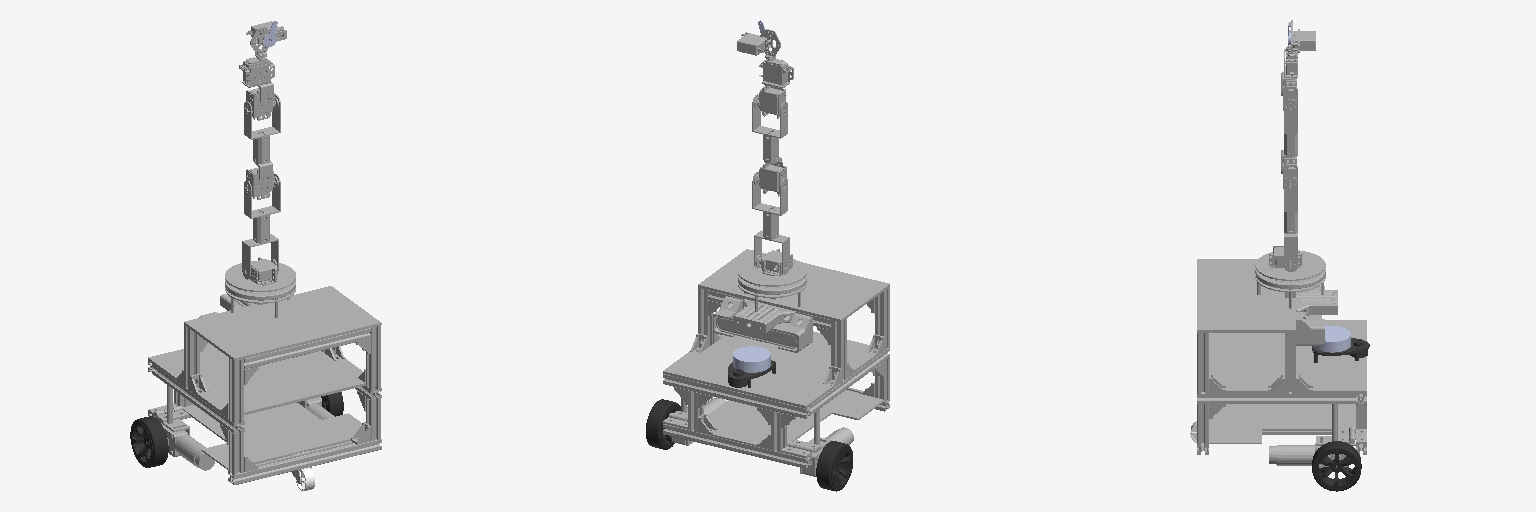
robot.urdf — tf_urdf2:
<?xml version="1.0" encoding="utf-8"?>
<!-- This URDF was automatically created by SolidWorks to URDF Exporter! Originally created by [author] ([email redacted]) 
     Commit Version: 1.6.0-4-g7f85cfe  Build Version: 1.6.7995.38578
     For more information, please see http://wiki.ros.org/sw_urdf_exporter -->
<robot
  name="tf_urdf2">
  <link
    name="base_link">
    <inertial>
      <origin
        xyz="-1.23025786656509E-12 5.18846734977975E-12 7.17791849942659E-12"
        rpy="0 0 0" />
      <mass
        value="2.12847235416398" />
      <inertia
        ixx="0.00568558429631298"
        ixy="1.5266709730259E-09"
        ixz="-5.06469082751148E-08"
        iyy="0.00660980095473277"
        iyz="-5.49851563305515E-06"
        izz="0.0118606210877818" />
    </inertial>
    <visual>
      <origin
        xyz="0 0 0"
        rpy="0 0 0" />
      <geometry>
        <mesh
          filename="package://tf_urdf2/meshes/base_link.STL" />
      </geometry>
      <material
        name="">
        <color
          rgba="0.752941176470588 0.752941176470588 0.752941176470588 1" />
      </material>
    </visual>
    <collision>
      <origin
        xyz="0 0 0"
        rpy="0 0 0" />
      <geometry>
        <mesh
          filename="package://tf_urdf2/meshes/base_link.STL" />
      </geometry>
    </collision>
  </link>
  <link
    name="base_laser_link">
    <inertial>
      <origin
        xyz="0.00287209394668812 -0.000171439245075351 -4.24955752011125E-15"
        rpy="0 0 0" />
      <mass
        value="0.368367374305662" />
      <inertia
        ixx="9.68293322754369E-05"
        ixy="1.45421516435213E-05"
        ixz="-1.17442257422505E-20"
        iyy="0.000356470305894242"
        iyz="-6.52735196393128E-21"
        izz="0.000276008992523265" />
    </inertial>
    <visual>
      <origin
        xyz="0 0 0"
        rpy="0 0 0" />
      <geometry>
        <mesh
          filename="package://tf_urdf2/meshes/base_laser_link.STL" />
      </geometry>
      <material
        name="">
        <color
          rgba="0.298039215686275 0.298039215686275 0.298039215686275 1" />
      </material>
    </visual>
    <collision>
      <origin
        xyz="0 0 0"
        rpy="0 0 0" />
      <geometry>
        <mesh
          filename="package://tf_urdf2/meshes/base_laser_link.STL" />
      </geometry>
    </collision>
  </link>
  <joint
    name="base_laser_joint"
    type="fixed">
    <origin
      xyz="-0.000131363742770744 0.0960941115400787 0.0268121154387293"
      rpy="1.5707963267949 0 1.5707963267949" />
    <parent
      link="base_link" />
    <child
      link="base_laser_link" />
    <axis
      xyz="0 0 0" />
  </joint>
  <link
    name="laser_link">
    <inertial>
      <origin
        xyz="6.27969898303604E-15 0.00994901655834555 5.59968738045313E-15"
        rpy="0 0 0" />
      <mass
        value="0.0660277715680958" />
      <inertia
        ixx="1.96156877893573E-05"
        ixy="2.30712697514792E-21"
        ixz="3.3881317890172E-21"
        iyy="3.48742138584865E-05"
        iyz="2.55774068988361E-21"
        izz="1.96156117763069E-05" />
    </inertial>
    <visual>
      <origin
        xyz="0 0 0"
        rpy="0 0 0" />
      <geometry>
        <mesh
          filename="package://tf_urdf2/meshes/laser_link.STL" />
      </geometry>
      <material
        name="">
        <color
          rgba="0.792156862745098 0.819607843137255 0.933333333333333 1" />
      </material>
    </visual>
    <collision>
      <origin
        xyz="0 0 0"
        rpy="0 0 0" />
      <geometry>
        <mesh
          filename="package://tf_urdf2/meshes/laser_link.STL" />
      </geometry>
    </collision>
  </link>
  <joint
    name="laser_joint"
    type="continuous">
    <origin
      xyz="-0.01425 0.00499999999999998 0"
      rpy="3.14159265358979 0.841141811649931 3.14159265358979" />
    <parent
      link="base_laser_link" />
    <child
      link="laser_link" />
    <axis
      xyz="0 1 0" />
  </joint>
  <link
    name="camera_link">
    <inertial>
      <origin
        xyz="-3.59641705078968E-06 -8.99346677352003E-05 -0.0199626938778014"
        rpy="0 0 0" />
      <mass
        value="0.182998721477312" />
      <inertia
        ixx="3.5992273823816E-05"
        ixy="2.02108915234498E-09"
        ixz="4.50592861470096E-08"
        iyy="0.000405203076956735"
        iyz="4.47034923597135E-08"
        izz="0.000396282425929481" />
    </inertial>
    <visual>
      <origin
        xyz="0 0 0"
        rpy="0 0 0" />
      <geometry>
        <mesh
          filename="package://tf_urdf2/meshes/camera_link.STL" />
      </geometry>
      <material
        name="">
        <color
          rgba="0.752941176470588 0.752941176470588 0.752941176470588 1" />
      </material>
    </visual>
    <collision>
      <origin
        xyz="0 0 0"
        rpy="0 0 0" />
      <geometry>
        <mesh
          filename="package://tf_urdf2/meshes/camera_link.STL" />
      </geometry>
    </collision>
  </link>
  <joint
    name="camera_joint"
    type="fixed">
    <origin
      xyz="-0.000131363742774914 0.0638441115400772 0.0858121154387287"
      rpy="1.5707963267949 0 3.14159265358979" />
    <parent
      link="base_link" />
    <child
      link="camera_link" />
    <axis
      xyz="0 0 0" />
  </joint>
  <link
    name="left_wheel_link">
    <inertial>
      <origin
        xyz="-0.0150496497452622 -1.96331145785322E-12 2.77555756156289E-16"
        rpy="0 0 0" />
      <mass
        value="0.0895053073671552" />
      <inertia
        ixx="0.000104006422478187"
        ixy="7.89419753183192E-16"
        ixz="4.3658717399168E-20"
        iyy="5.80082032825445E-05"
        iyz="9.78351853198924E-16"
        izz="5.80082032677947E-05" />
    </inertial>
    <visual>
      <origin
        xyz="0 0 0"
        rpy="0 0 0" />
      <geometry>
        <mesh
          filename="package://tf_urdf2/meshes/left_wheel_link.STL" />
      </geometry>
      <material
        name="">
        <color
          rgba="0.250980392156863 0.250980392156863 0.250980392156863 1" />
      </material>
    </visual>
    <collision>
      <origin
        xyz="0 0 0"
        rpy="0 0 0" />
      <geometry>
        <mesh
          filename="package://tf_urdf2/meshes/left_wheel_link.STL" />
      </geometry>
    </collision>
  </link>
  <joint
    name="left_wheel_joint"
    type="continuous">
    <origin
      xyz="-0.154631363742771 0.0895941115400787 -0.11818788456127"
      rpy="0.848490512040727 0 0" />
    <parent
      link="base_link" />
    <child
      link="left_wheel_link" />
    <axis
      xyz="1 0 0" />
  </joint>
  <link
    name="right_wheel_link">
    <inertial>
      <origin
        xyz="-0.0150496497452583 -1.9614865287565E-12 -1.24206200879939E-15"
        rpy="0 0 0" />
      <mass
        value="0.0895053073671553" />
      <inertia
        ixx="0.000104006422478187"
        ixy="7.89524586002435E-16"
        ixz="-4.26639638785426E-20"
        iyy="5.80082032825446E-05"
        iyz="9.78333218474084E-16"
        izz="5.80082032677947E-05" />
    </inertial>
    <visual>
      <origin
        xyz="0 0 0"
        rpy="0 0 0" />
      <geometry>
        <mesh
          filename="package://tf_urdf2/meshes/right_wheel_link.STL" />
      </geometry>
      <material
        name="">
        <color
          rgba="0.250980392156863 0.250980392156863 0.250980392156863 1" />
      </material>
    </visual>
    <collision>
      <origin
        xyz="0 0 0"
        rpy="0 0 0" />
      <geometry>
        <mesh
          filename="package://tf_urdf2/meshes/right_wheel_link.STL" />
      </geometry>
    </collision>
  </link>
  <joint
    name="right_wheel_joint"
    type="continuous">
    <origin
      xyz="0.154368636257235 0.0895941115400792 -0.118187884561269"
      rpy="0.537102295661347 0 3.14159265358979" />
    <parent
      link="base_link" />
    <child
      link="right_wheel_link" />
    <axis
      xyz="1 0 0" />
  </joint>
  <link
    name="arm_1_link">
    <inertial>
      <origin
        xyz="-0.00304007438065856 0.0196164335046979 -0.00291517433010096"
        rpy="0 0 0" />
      <mass
        value="0.102309676287535" />
      <inertia
        ixx="5.8527733760858E-05"
        ixy="-1.83034149313203E-07"
        ixz="-5.8553418327819E-07"
        iyy="0.000109918724976135"
        iyz="3.63049047085068E-07"
        izz="5.95682017970688E-05" />
    </inertial>
    <visual>
      <origin
        xyz="0 0 0"
        rpy="0 0 0" />
      <geometry>
        <mesh
          filename="package://tf_urdf2/meshes/arm_1_link.STL" />
      </geometry>
      <material
        name="">
        <color
          rgba="0.752941176470588 0.752941176470588 0.752941176470588 1" />
      </material>
    </visual>
    <collision>
      <origin
        xyz="0 0 0"
        rpy="0 0 0" />
      <geometry>
        <mesh
          filename="package://tf_urdf2/meshes/arm_1_link.STL" />
      </geometry>
    </collision>
  </link>
  <joint
    name="arm_1_joint"
    type="revolute">
    <origin
      xyz="-0.000131363742783178 0.0108441115400749 0.163312115438725"
      rpy="1.57079632679492 0 1.96777674022887" />
    <parent
      link="base_link" />
    <child
      link="arm_1_link" />
    <axis
      xyz="0 1 0" />
    <limit
      lower="-1.57"
      upper="1.57"
      effort="10"
      velocity="100" />
  </joint>
  <link
    name="arm_2_link">
    <inertial>
      <origin
        xyz="-0.00136241892712764 0.076000000000004 0.00324974749159981"
        rpy="0 0 0" />
      <mass
        value="0.0731866074343533" />
      <inertia
        ixx="4.80073815600739E-05"
        ixy="-1.00851028100145E-08"
        ixz="8.91994561566115E-06"
        iyy="3.20760640864426E-05"
        iyz="2.40557713637902E-08"
        izz="3.04704178358831E-05" />
    </inertial>
    <visual>
      <origin
        xyz="0 0 0"
        rpy="0 0 0" />
      <geometry>
        <mesh
          filename="package://tf_urdf2/meshes/arm_2_link.STL" />
      </geometry>
      <material
        name="">
        <color
          rgba="0.752941176470588 0.752941176470588 0.752941176470588 1" />
      </material>
    </visual>
    <collision>
      <origin
        xyz="0 0 0"
        rpy="0 0 0" />
      <geometry>
        <mesh
          filename="package://tf_urdf2/meshes/arm_2_link.STL" />
      </geometry>
    </collision>
  </link>
  <joint
    name="arm_2_joint"
    type="revolute">
    <origin
      xyz="0.000571784258836153 0.0325000000000035 0.000239713915631105"
      rpy="0 0 0" />
    <parent
      link="arm_1_link" />
    <child
      link="arm_2_link" />
    <axis
      xyz="0.38663534779315 0 -0.922232675541736" />
    <limit
      lower="-1.57"
      upper="1.57"
      effort="10"
      velocity="100" />
  </joint>
  <link
    name="arm_3_link">
    <inertial>
      <origin
        xyz="-0.0025815323539943 0.0524015938949764 0.000939181123807713"
        rpy="0 0 0" />
      <mass
        value="0.103604281318284" />
      <inertia
        ixx="3.85881019869448E-05"
        ixy="-4.80398959246596E-07"
        ixz="5.05895937622422E-06"
        iyy="2.28862112756691E-05"
        iyz="-1.44453368102442E-07"
        izz="2.97794535051696E-05" />
    </inertial>
    <visual>
      <origin
        xyz="0 0 0"
        rpy="0 0 0" />
      <geometry>
        <mesh
          filename="package://tf_urdf2/meshes/arm_3_link.STL" />
      </geometry>
      <material
        name="">
        <color
          rgba="0.752941176470588 0.752941176470588 0.752941176470588 1" />
      </material>
    </visual>
    <collision>
      <origin
        xyz="0 0 0"
        rpy="0 0 0" />
      <geometry>
        <mesh
          filename="package://tf_urdf2/meshes/arm_3_link.STL" />
      </geometry>
    </collision>
  </link>
  <joint
    name="arm_3_joint"
    type="revolute">
    <origin
      xyz="0 0.151999999999983 0"
      rpy="0 0 0" />
    <parent
      link="arm_2_link" />
    <child
      link="arm_3_link" />
    <axis
      xyz="0.38663534779314 0 -0.922232675541741" />
    <limit
      lower="-1.57"
      upper="1.57"
      effort="10"
      velocity="100" />
  </joint>
  <link
    name="arm_4_link">
    <inertial>
      <origin
        xyz="-0.00101187421643466 0.0375011786552923 -0.00366708118075301"
        rpy="0 0 0" />
      <mass
        value="0.0995665365644681" />
      <inertia
        ixx="2.11129356918354E-05"
        ixy="-8.60509446438974E-08"
        ixz="2.61664430380233E-06"
        iyy="1.51148952678042E-05"
        iyz="-3.60758613100859E-08"
        izz="1.71059723390192E-05" />
    </inertial>
    <visual>
      <origin
        xyz="0 0 0"
        rpy="0 0 0" />
      <geometry>
        <mesh
          filename="package://tf_urdf2/meshes/arm_4_link.STL" />
      </geometry>
      <material
        name="">
        <color
          rgba="0.752941176470588 0.752941176470588 0.752941176470588 1" />
      </material>
    </visual>
    <collision>
      <origin
        xyz="0 0 0"
        rpy="0 0 0" />
      <geometry>
        <mesh
          filename="package://tf_urdf2/meshes/arm_4_link.STL" />
      </geometry>
    </collision>
  </link>
  <joint
    name="arm_4_joint"
    type="revolute">
    <origin
      xyz="0 0.146400000000001 0"
      rpy="0 0 0" />
    <parent
      link="arm_3_link" />
    <child
      link="arm_4_link" />
    <axis
      xyz="0.386635347793163 0 -0.922232675541731" />
    <limit
      lower="-1.57"
      upper="1.57"
      effort="10"
      velocity="100" />
  </joint>
  <link
    name="arm_5_link">
    <inertial>
      <origin
        xyz="-0.00868940066621744 0.0276881875406733 -0.0253003256747634"
        rpy="0 0 0" />
      <mass
        value="0.0375612763588537" />
      <inertia
        ixx="6.51328883590984E-06"
        ixy="4.82424647091232E-09"
        ixz="1.70111532974576E-06"
        iyy="6.4324842128533E-06"
        iyz="-9.59387279797009E-09"
        izz="2.95122651270559E-06" />
    </inertial>
    <visual>
      <origin
        xyz="0 0 0"
        rpy="0 0 0" />
      <geometry>
        <mesh
          filename="package://tf_urdf2/meshes/arm_5_link.STL" />
      </geometry>
      <material
        name="">
        <color
          rgba="0.752941176470588 0.752941176470588 0.752941176470588 1" />
      </material>
    </visual>
    <collision>
      <origin
        xyz="0 0 0"
        rpy="0 0 0" />
      <geometry>
        <mesh
          filename="package://tf_urdf2/meshes/arm_5_link.STL" />
      </geometry>
    </collision>
  </link>
  <joint
    name="arm_5_joint"
    type="revolute">
    <origin
      xyz="0.000560909226379237 0.0911499999999666 0.00281042669881565"
      rpy="-3.14159265358977 0 3.14159265358978" />
    <parent
      link="arm_4_link" />
    <child
      link="arm_5_link" />
    <axis
      xyz="0 1 0" />
    <limit
      lower="-1.57"
      upper="1.57"
      effort="10"
      velocity="100" />
  </joint>
  <link
    name="gripper_1_link">
    <inertial>
      <origin
        xyz="0.000163480467066018 -0.00403983489132131 0.00336463442592227"
        rpy="0 0 0" />
      <mass
        value="0.00233893532260201" />
      <inertia
        ixx="2.44085104510111E-07"
        ixy="-4.91339632397839E-09"
        ixz="5.10119347440217E-24"
        iyy="7.71995240696251E-08"
        iyz="3.34454387034296E-22"
        izz="3.1839756504268E-07" />
    </inertial>
    <visual>
      <origin
        xyz="0 0 0"
        rpy="0 0 0" />
      <geometry>
        <mesh
          filename="package://tf_urdf2/meshes/gripper_1_link.STL" />
      </geometry>
      <material
        name="">
        <color
          rgba="0.792156862745098 0.819607843137255 0.933333333333333 1" />
      </material>
    </visual>
    <collision>
      <origin
        xyz="0 0 0"
        rpy="0 0 0" />
      <geometry>
        <mesh
          filename="package://tf_urdf2/meshes/gripper_1_link.STL" />
      </geometry>
    </collision>
  </link>
  <joint
    name="gripper_1_joint"
    type="revolute">
    <origin
      xyz="0.0068104 0.0295 -0.011783"
      rpy="0.63968 -1.068 2.4376" />
    <parent
      link="arm_5_link" />
    <child
      link="gripper_1_link" />
    <axis
      xyz="0 0 1" />
    <limit
      lower="-1.57"
      upper="1.57"
      effort="10"
      velocity="100" />
  </joint>
  <link
    name="caster_link">
    <inertial>
      <origin
        xyz="0.0040842184642891 -1.66533453693773E-16 -2.77555756156289E-17"
        rpy="0 0 0" />
      <mass
        value="0.01152385226836" />
      <inertia
        ixx="2.43995864492354E-06"
        ixy="-1.61796527815372E-21"
        ixz="6.56161020907689E-22"
        iyy="1.40033256895839E-06"
        iyz="-1.19114008207636E-21"
        izz="1.40033256895839E-06" />
    </inertial>
    <visual>
      <origin
        xyz="0 0 0"
        rpy="0 0 0" />
      <geometry>
        <mesh
          filename="package://tf_urdf2/meshes/caster_link.STL" />
      </geometry>
      <material
        name="">
        <color
          rgba="1 1 1 1" />
      </material>
    </visual>
    <collision>
      <origin
        xyz="0 0 0"
        rpy="0 0 0" />
      <geometry>
        <mesh
          filename="package://tf_urdf2/meshes/caster_link.STL" />
      </geometry>
    </collision>
  </link>
  <joint
    name="caster_joint"
    type="continuous">
    <origin
      xyz="-0.0047951 -0.14001 -0.13319"
      rpy="3.1007 0 -0.034236" />
    <parent
      link="base_link" />
    <child
      link="caster_link" />
    <axis
      xyz="1 0 0" />
  </joint>
</robot>

--- What the picture shows (computed from the rendered views, not written in the file) ---
Views: 3 orthographic renders of the robot side by side, from view 1: azimuth 30°, elevation 25°; view 2: azimuth 150°, elevation 25°; view 3: azimuth 270°, elevation 25°.
Robot: tf_urdf2 — 13 links, 12 joints (6 revolute, 4 continuous, 2 fixed); root link base_link; default pose: every joint at zero.
Visible links, largest first — view 1: base_link, arm_3_link, arm_2_link, arm_1_link, arm_4_link, left_wheel_link, arm_5_link; view 2: base_link, arm_3_link, arm_2_link, arm_1_link, left_wheel_link, arm_4_link, right_wheel_link, camera_link, arm_5_link, laser_link, base_laser_link; view 3: base_link, right_wheel_link, arm_1_link, arm_2_link, arm_3_link, arm_4_link, laser_link, arm_5_link, base_laser_link.
Link boxes in pixels (<box>): base_link: <box>148,280,381,484</box>; arm_3_link: <box>244,94,280,199</box>; arm_2_link: <box>242,174,280,279</box>; arm_1_link: <box>225,257,295,292</box>; arm_4_link: <box>239,57,274,120</box>; left_wheel_link: <box>130,416,168,467</box>; arm_5_link: <box>246,21,286,57</box>; base_link: <box>663,249,889,476</box>; arm_3_link: <box>752,94,787,196</box>; arm_2_link: <box>752,172,789,274</box>; arm_1_link: <box>738,249,806,287</box>; left_wheel_link: <box>816,441,852,491</box>; arm_4_link: <box>758,59,793,118</box>; right_wheel_link: <box>646,399,680,449</box>; camera_link: <box>716,312,796,348</box>; arm_5_link: <box>737,29,780,59</box>; laser_link: <box>733,346,770,372</box>; base_laser_link: <box>728,360,775,387</box>; base_link: <box>1197,259,1366,467</box>; right_wheel_link: <box>1312,441,1361,491</box>; arm_1_link: <box>1255,246,1325,281</box>; arm_2_link: <box>1284,167,1297,271</box>; arm_3_link: <box>1281,89,1297,188</box>; arm_4_link: <box>1281,49,1297,110</box>; laser_link: <box>1314,326,1350,352</box>; arm_5_link: <box>1286,20,1315,52</box>; base_laser_link: <box>1312,338,1369,362</box>.
Size in the robot's own frame: 0.369 by 0.3053 by 0.809 metres.
Meshes: 13 distinct files referenced, 13 mesh visuals loaded (13 binary STL).